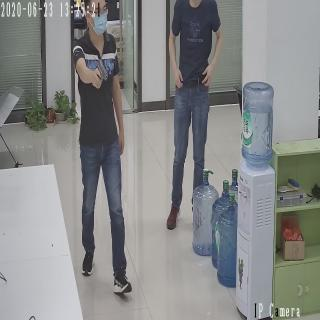gun: (92, 59, 108, 89)
